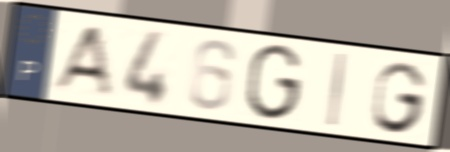4: (121, 25, 171, 109)
6: (186, 37, 238, 113)
A: (46, 24, 116, 96)
G: (242, 41, 306, 124), (370, 58, 431, 136)
I: (324, 50, 350, 130)
